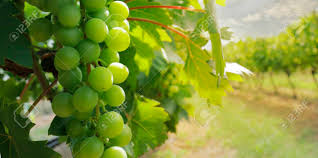grapes: (51, 11, 143, 158)
